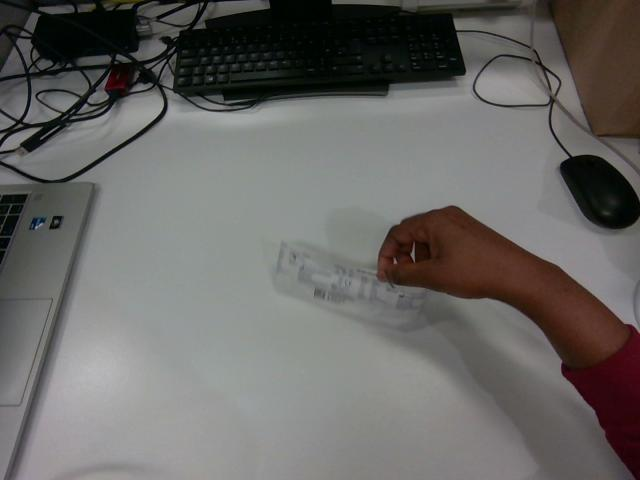syringe: (274, 242, 427, 329)
